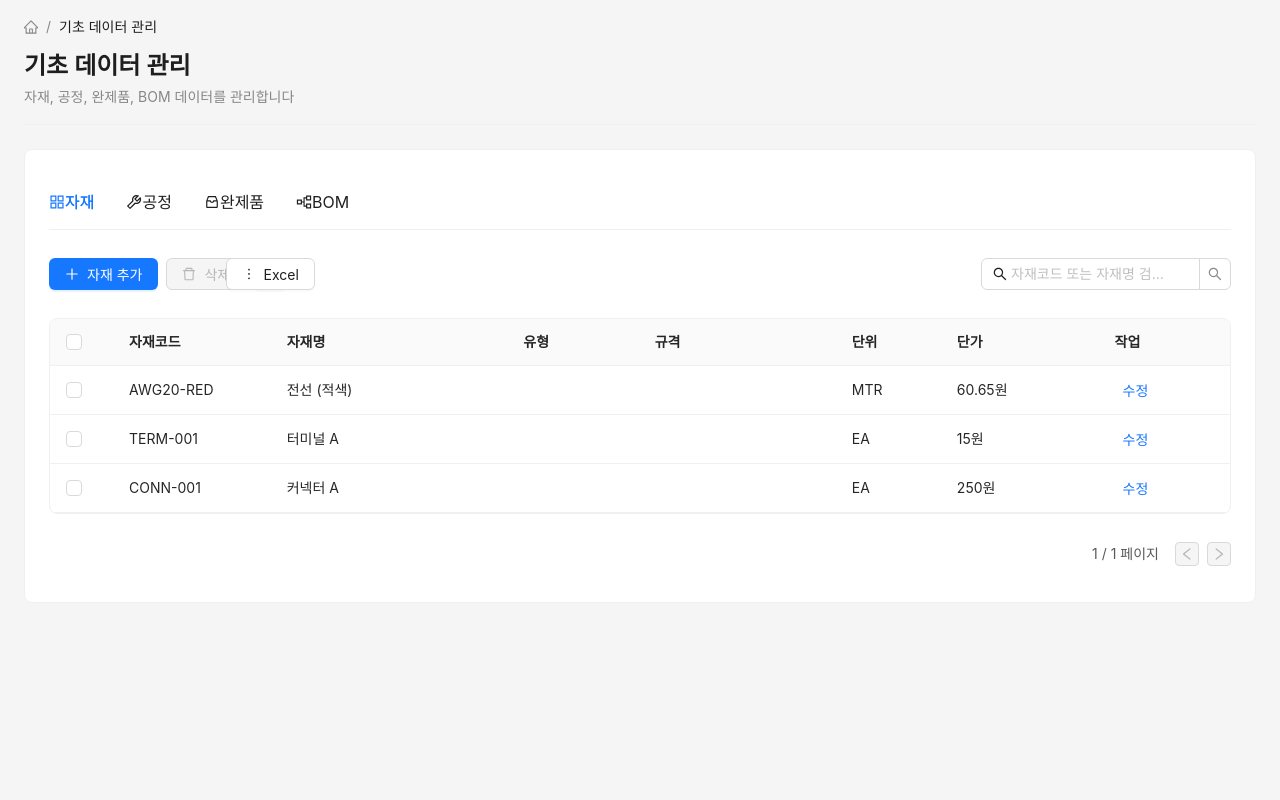
Test: MasterDataPage › BOM Tab › should show product selector in BOM tab
// Switch to BOM tab
Click the tab "BOM" at coordinates (323, 202), box x1=296 y1=190 x2=349 y2=214
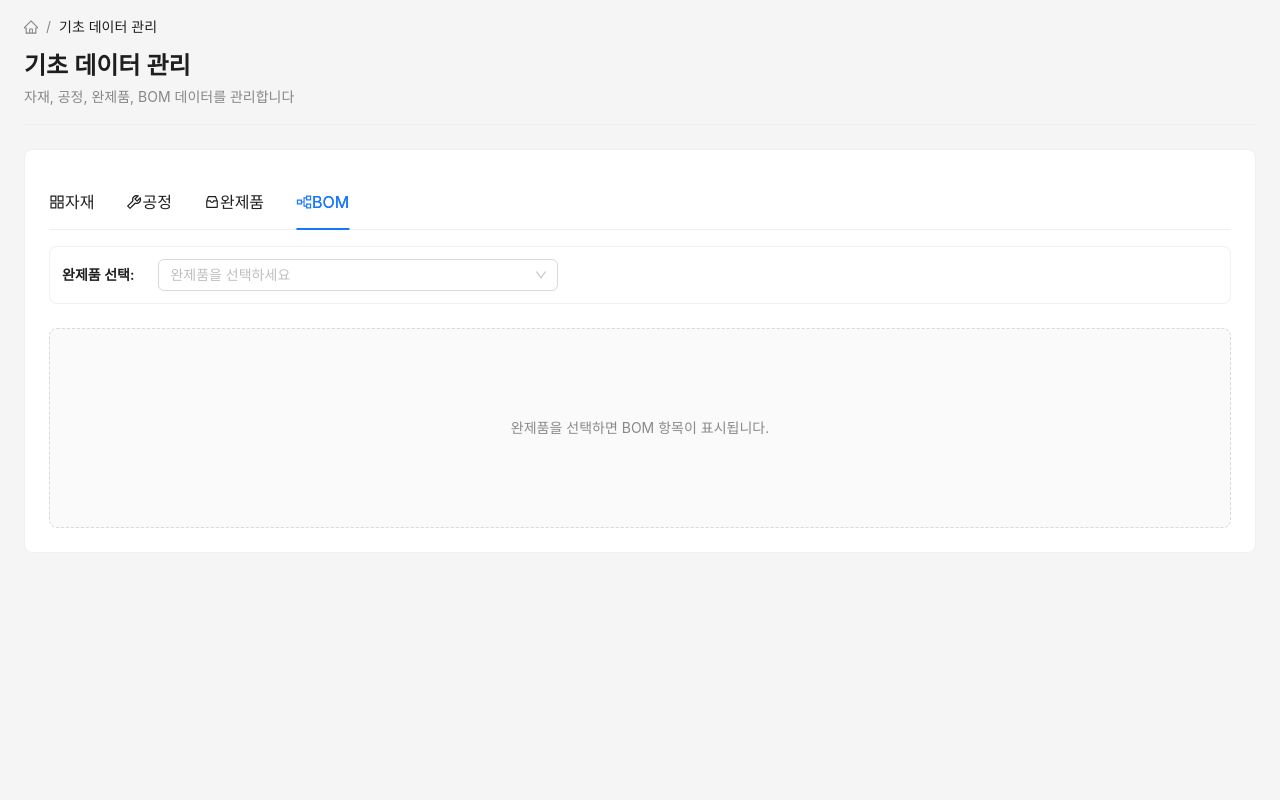
Expected: the text "완제품 선택:" is shown, x1=62 y1=266 x2=134 y2=283
